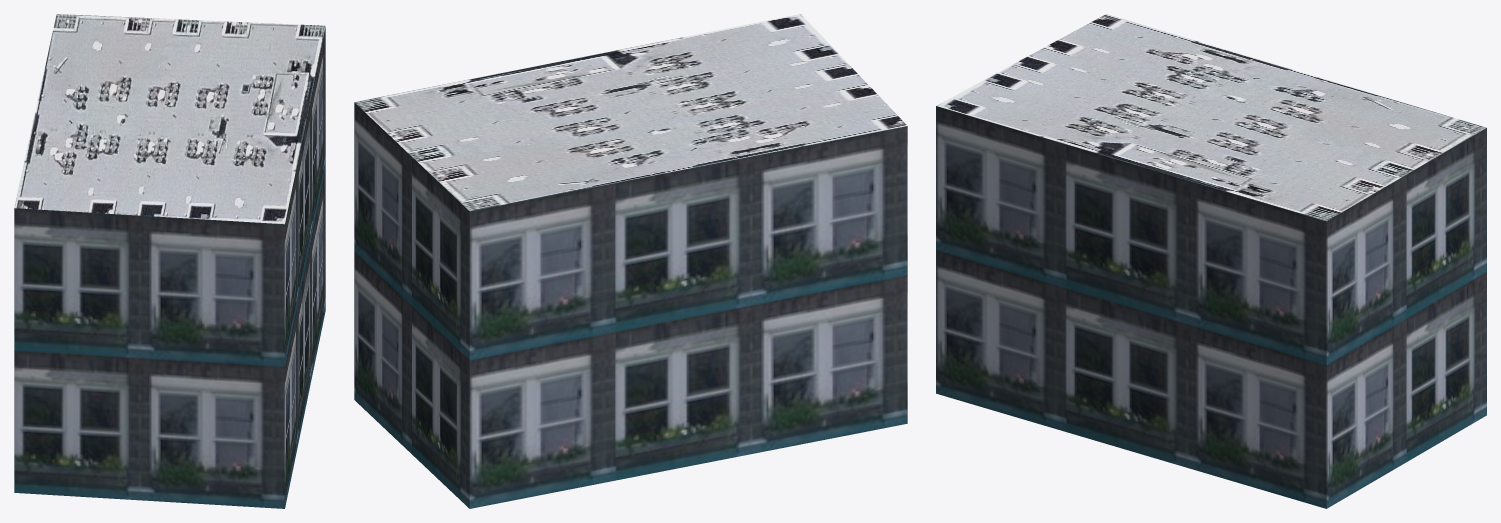
File: ResTex__2205.fbx
3 views of the same model, side by side, from view 1: azimuth 30°, elevation 25°; view 2: azimuth 150°, elevation 25°; view 3: azimuth 270°, elevation 25° (orthographic). The views are drawn at different scales.
Parts seen in each view (by area): view 1: CityEngineMaterial_11_m, CityEngineMaterial_m; view 2: CityEngineMaterial_11_m, CityEngineMaterial_m; view 3: CityEngineMaterial_11_m, CityEngineMaterial_m.
Part boxes in pixels (x1=…): CityEngineMaterial_11_m: x1=14, y1=27, x2=325, y2=508; CityEngineMaterial_m: x1=14, y1=14, x2=325, y2=224; CityEngineMaterial_11_m: x1=354, y1=102, x2=907, y2=508; CityEngineMaterial_m: x1=354, y1=14, x2=907, y2=210; CityEngineMaterial_11_m: x1=936, y1=106, x2=1486, y2=508; CityEngineMaterial_m: x1=936, y1=14, x2=1486, y2=221.
Bounding box in the file's own units: 9.27 × 6 × 10.41.
Materials: 2 (2 with a texture image).
